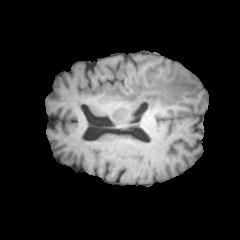glioma: (105, 65, 198, 123)
